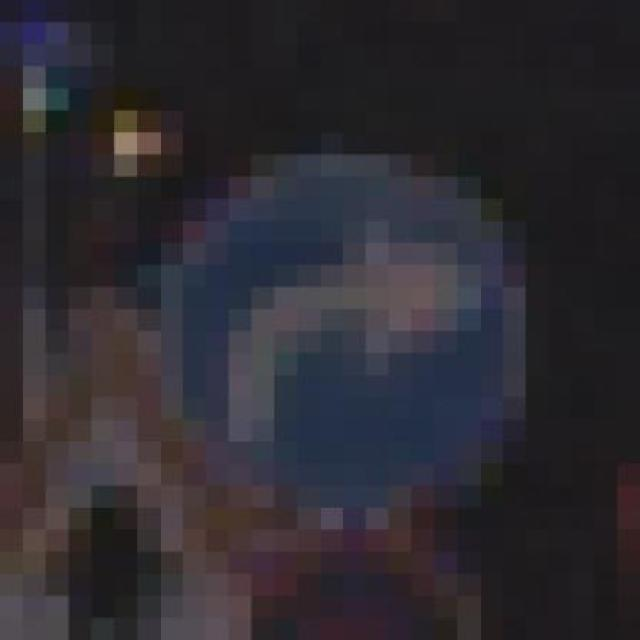Turn right ahead: (137, 132, 572, 552)
